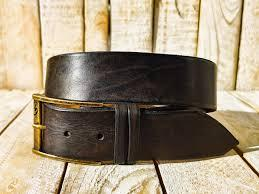belt: (33, 52, 238, 164)
